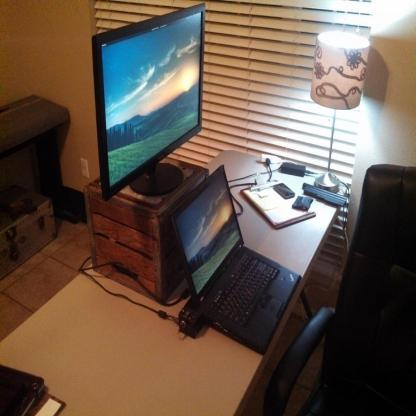board: (175, 162, 301, 352)
